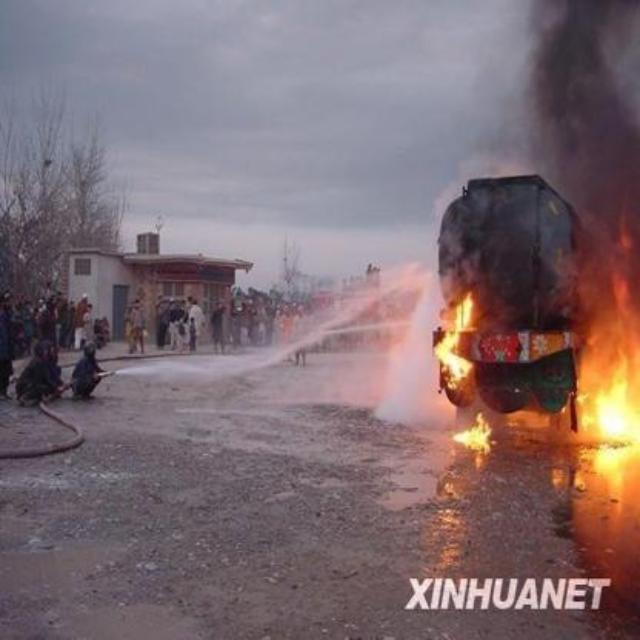Fire: (438, 291, 476, 385), (598, 392, 634, 441), (456, 409, 494, 455)
Smoke: (542, 6, 636, 388)
